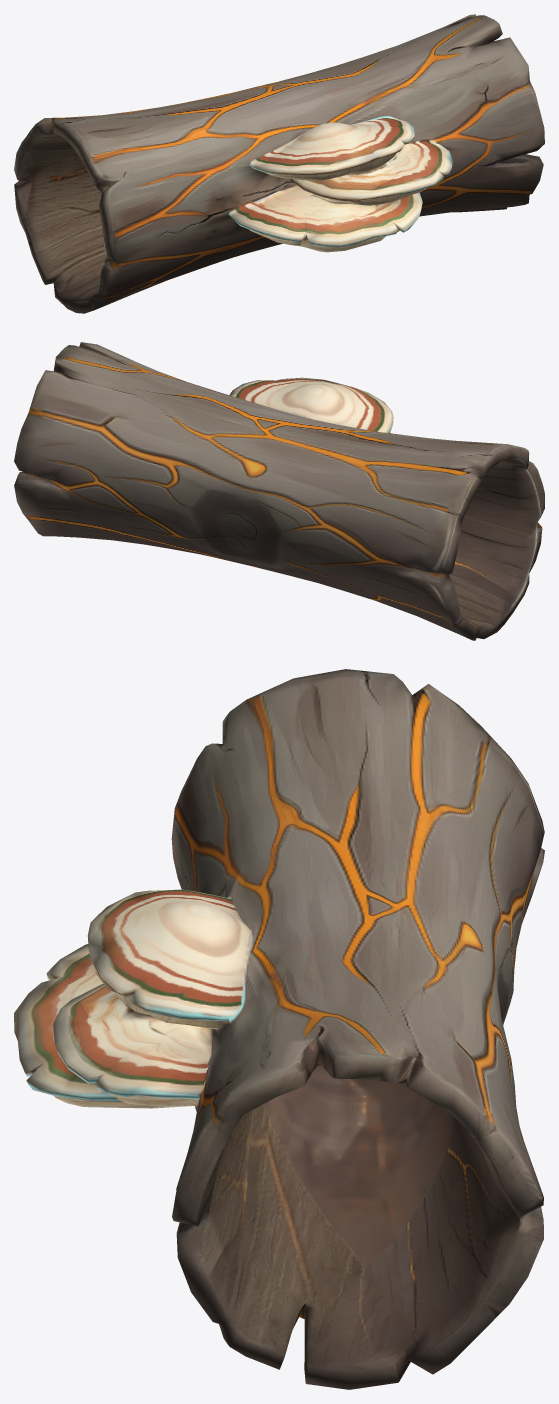
3 views of the same model, one above another, from view 1: azimuth 30°, elevation 25°; view 2: azimuth 150°, elevation 25°; view 3: azimuth 270°, elevation 25° (orthographic). The views are drawn at different scales.
Parts seen in each view (by area): view 1: Mesh_0; view 2: Mesh_0; view 3: Mesh_0.
Boxes of the visible parts, x1,y1,x2,y2 form: Mesh_0: (14, 14, 544, 313); Mesh_0: (14, 342, 544, 640); Mesh_0: (14, 669, 544, 1389).
Size of the model in its own units: 1.91 by 0.7625 by 1.09.
Materials: 1 (1 with a texture image).
